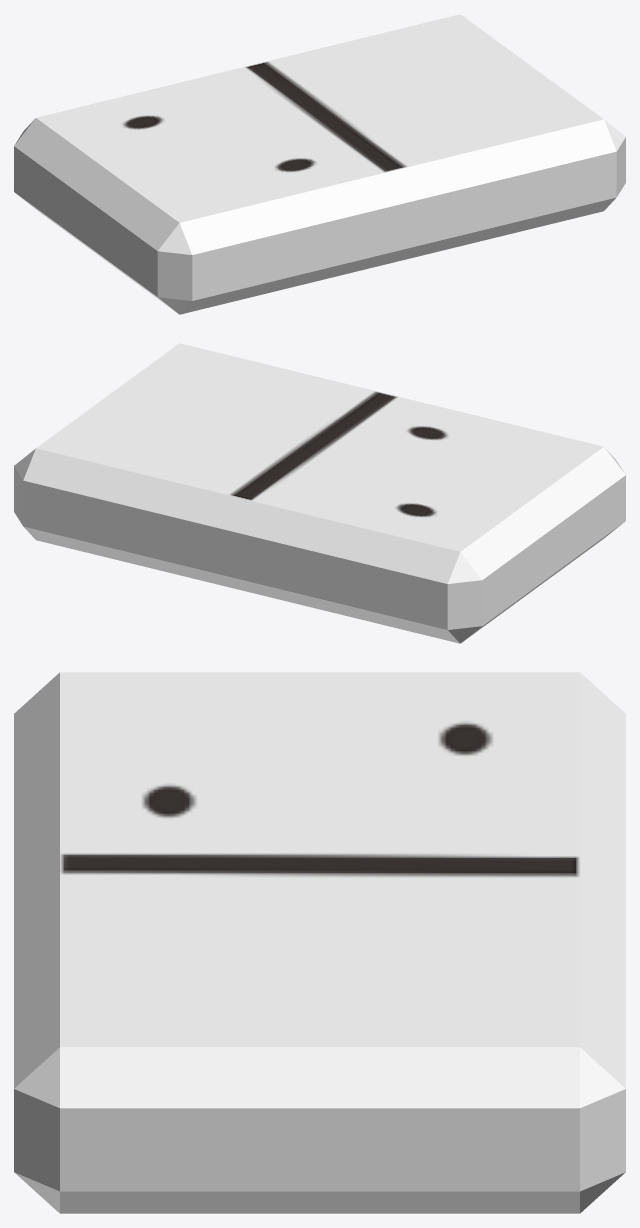
The model's file is Domino_Shoebox_05.fbx.
3 renders of one model, top to bottom at view 1: azimuth 30°, elevation 25°; view 2: azimuth 150°, elevation 25°; view 3: azimuth 270°, elevation 25°, orthographic. The views are drawn at different scales.
Parts seen in each view (by area): view 1: Domino_01; view 2: Domino_01; view 3: Domino_01.
Boxes of the visible parts, x1=… form: Domino_01: x1=14, y1=14, x2=625, y2=314; Domino_01: x1=14, y1=343, x2=625, y2=643; Domino_01: x1=14, y1=672, x2=625, y2=1213.
Size of the model in its own units: 1.6 by 0.3 by 1.
